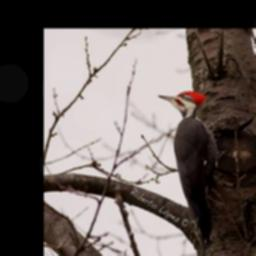Woodpecker: (155, 91, 222, 245)
